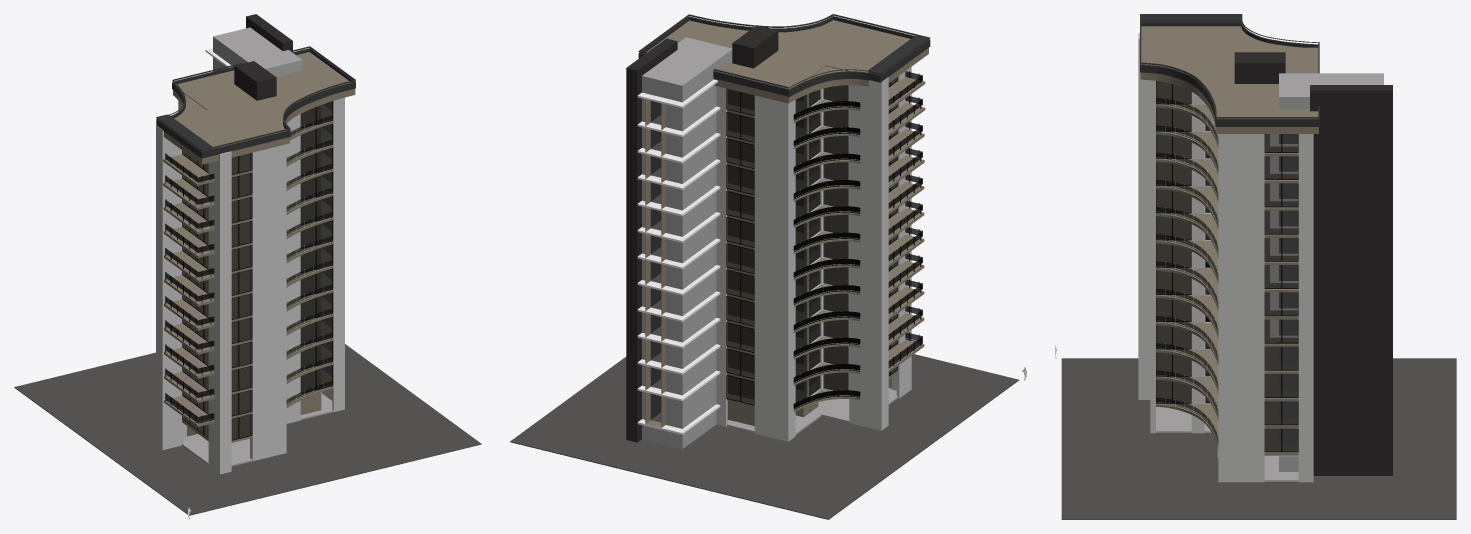
The model's file is residential_complex_modern_apartment_building.glb.
3 renders of one model, left to right at view 1: azimuth 30°, elevation 25°; view 2: azimuth 150°, elevation 25°; view 3: azimuth 270°, elevation 25°, orthographic. The views are drawn at different scales.
Visible parts, largest first — view 1: Object_10, Object_9, Object_39, Object_40, Object_20, Object_12, Object_14, Object_26, Object_16, Object_15, Object_22, Object_21 (+1 smaller); view 2: Object_10, Object_9, Object_40, Object_12, Object_39, Object_11, Object_20, Object_15, Object_24, Object_14, Object_26, Object_17 (+6 smaller); view 3: Object_9, Object_15, Object_10, Object_39, Object_40, Object_20, Object_22, Object_12, Object_14, Object_21, Object_24, Object_16 (+1 smaller).
Boxes of the visible parts, <box> form: Object_10: <box>156,97,344,474</box>; Object_9: <box>14,344,481,515</box>; Object_39: <box>163,90,349,426</box>; Object_40: <box>164,52,355,442</box>; Object_20: <box>182,101,333,439</box>; Object_12: <box>182,27,333,466</box>; Object_14: <box>156,46,355,158</box>; Object_26: <box>166,154,214,423</box>; Object_16: <box>182,101,332,440</box>; Object_15: <box>234,14,292,100</box>; Object_22: <box>182,232,333,438</box>; Object_21: <box>286,188,333,332</box>; Object_10: <box>716,67,911,441</box>; Object_9: <box>510,354,1018,519</box>; Object_40: <box>644,20,924,427</box>; Object_12: <box>642,37,897,449</box>; Object_39: <box>713,20,928,411</box>; Object_11: <box>795,85,848,402</box>; Object_20: <box>726,77,897,404</box>; Object_15: <box>626,25,778,442</box>; Object_24: <box>637,79,720,434</box>; Object_14: <box>638,14,930,97</box>; Object_26: <box>888,71,922,367</box>; Object_17: <box>793,101,860,278</box>; Object_9: <box>1061,358,1456,519</box>; Object_15: <box>1234,52,1392,475</box>; Object_10: <box>1138,33,1313,482</box>; Object_39: <box>1140,26,1301,448</box>; Object_40: <box>1156,47,1318,455</box>; Object_20: <box>1156,81,1298,451</box>; Object_22: <box>1156,134,1298,417</box>; Object_12: <box>1156,73,1383,481</box>; Object_14: <box>1140,14,1319,126</box>; Object_21: <box>1156,179,1298,397</box>; Object_24: <box>1270,134,1298,456</box>; Object_16: <box>1156,81,1298,452</box>.
Size of the model in its own units: 42.45 by 46.98 by 44.06.
